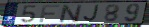5: (21, 5, 38, 24)
8: (103, 4, 121, 23)
9: (123, 3, 142, 23)
F: (38, 4, 61, 24)
J: (83, 4, 100, 23)
N: (59, 4, 83, 24)
